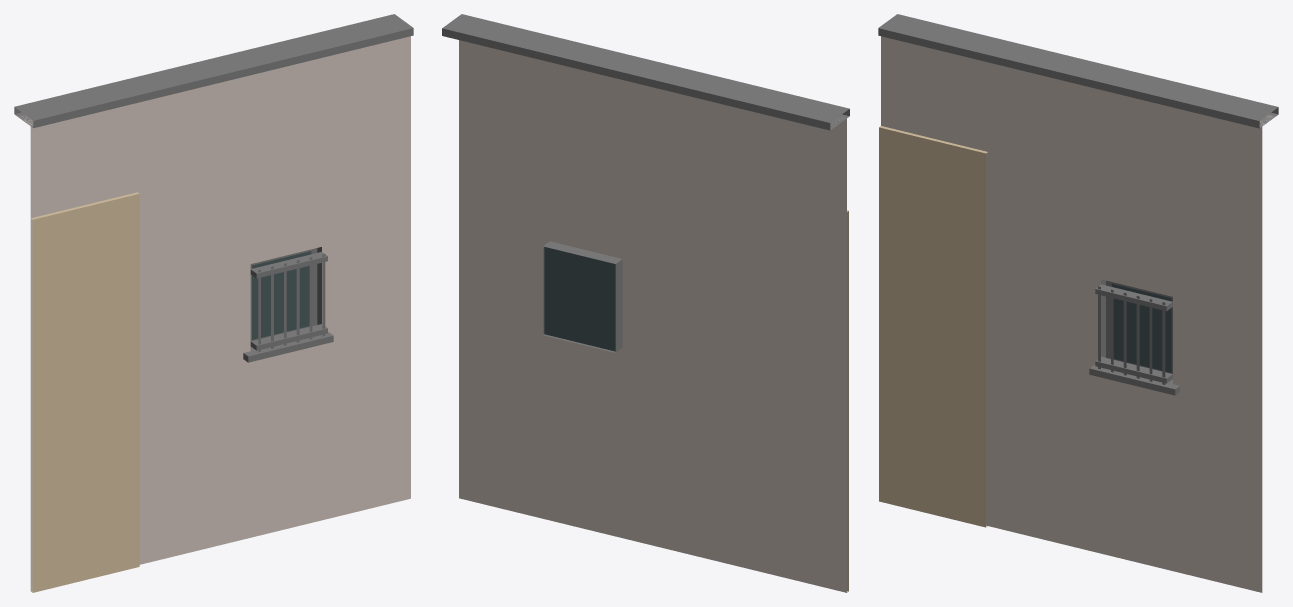
Rendered from top-w2.fbx.
3 renders of one model, left to right at view 1: azimuth 30°, elevation 25°; view 2: azimuth 150°, elevation 25°; view 3: azimuth 330°, elevation 25°, orthographic. The views are drawn at different scales.
Visible parts, largest first — view 1: a2001/200/top-w2; view 2: a2001/200/top-w2; view 3: a2001/200/top-w2.
Boxes of the visible parts, box(x1,y1,x2,y2) form: a2001/200/top-w2: box(14, 14, 413, 592); a2001/200/top-w2: box(442, 14, 849, 592); a2001/200/top-w2: box(878, 14, 1278, 592).
Size of the model in its own units: 3.2 by 3.8 by 0.33.
